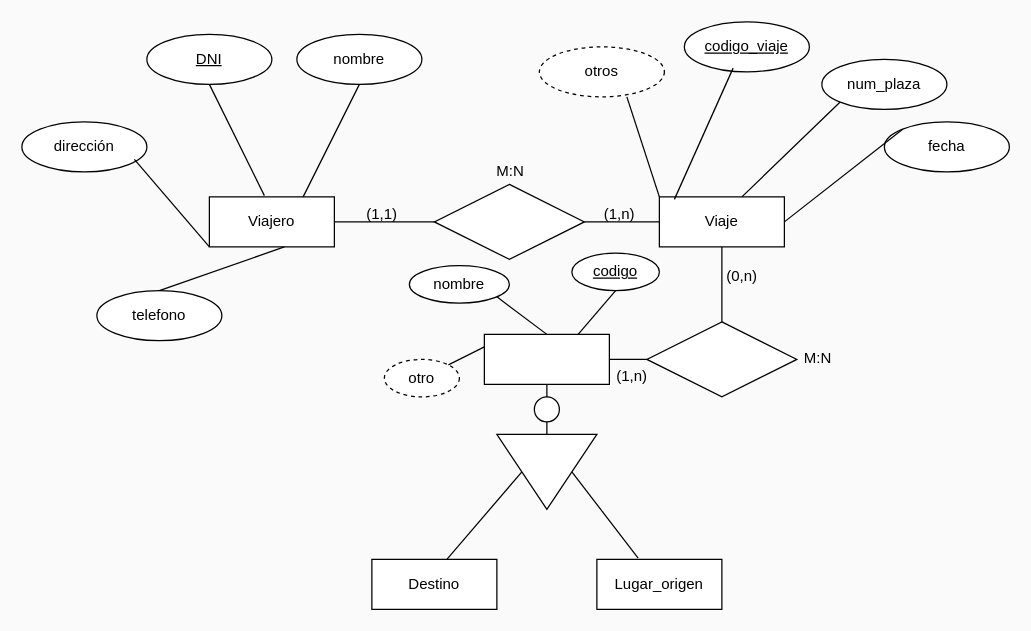
The diagram is 1031 pixels wide and 631 high, and some of its shapes have lost their labels. Here are the shapes that lost their labels. From the top down, the centre of each, then its label:
At point 508,221: "Viajar".
At point 546,358: "Lugar".
At point 721,359: "Tener".
